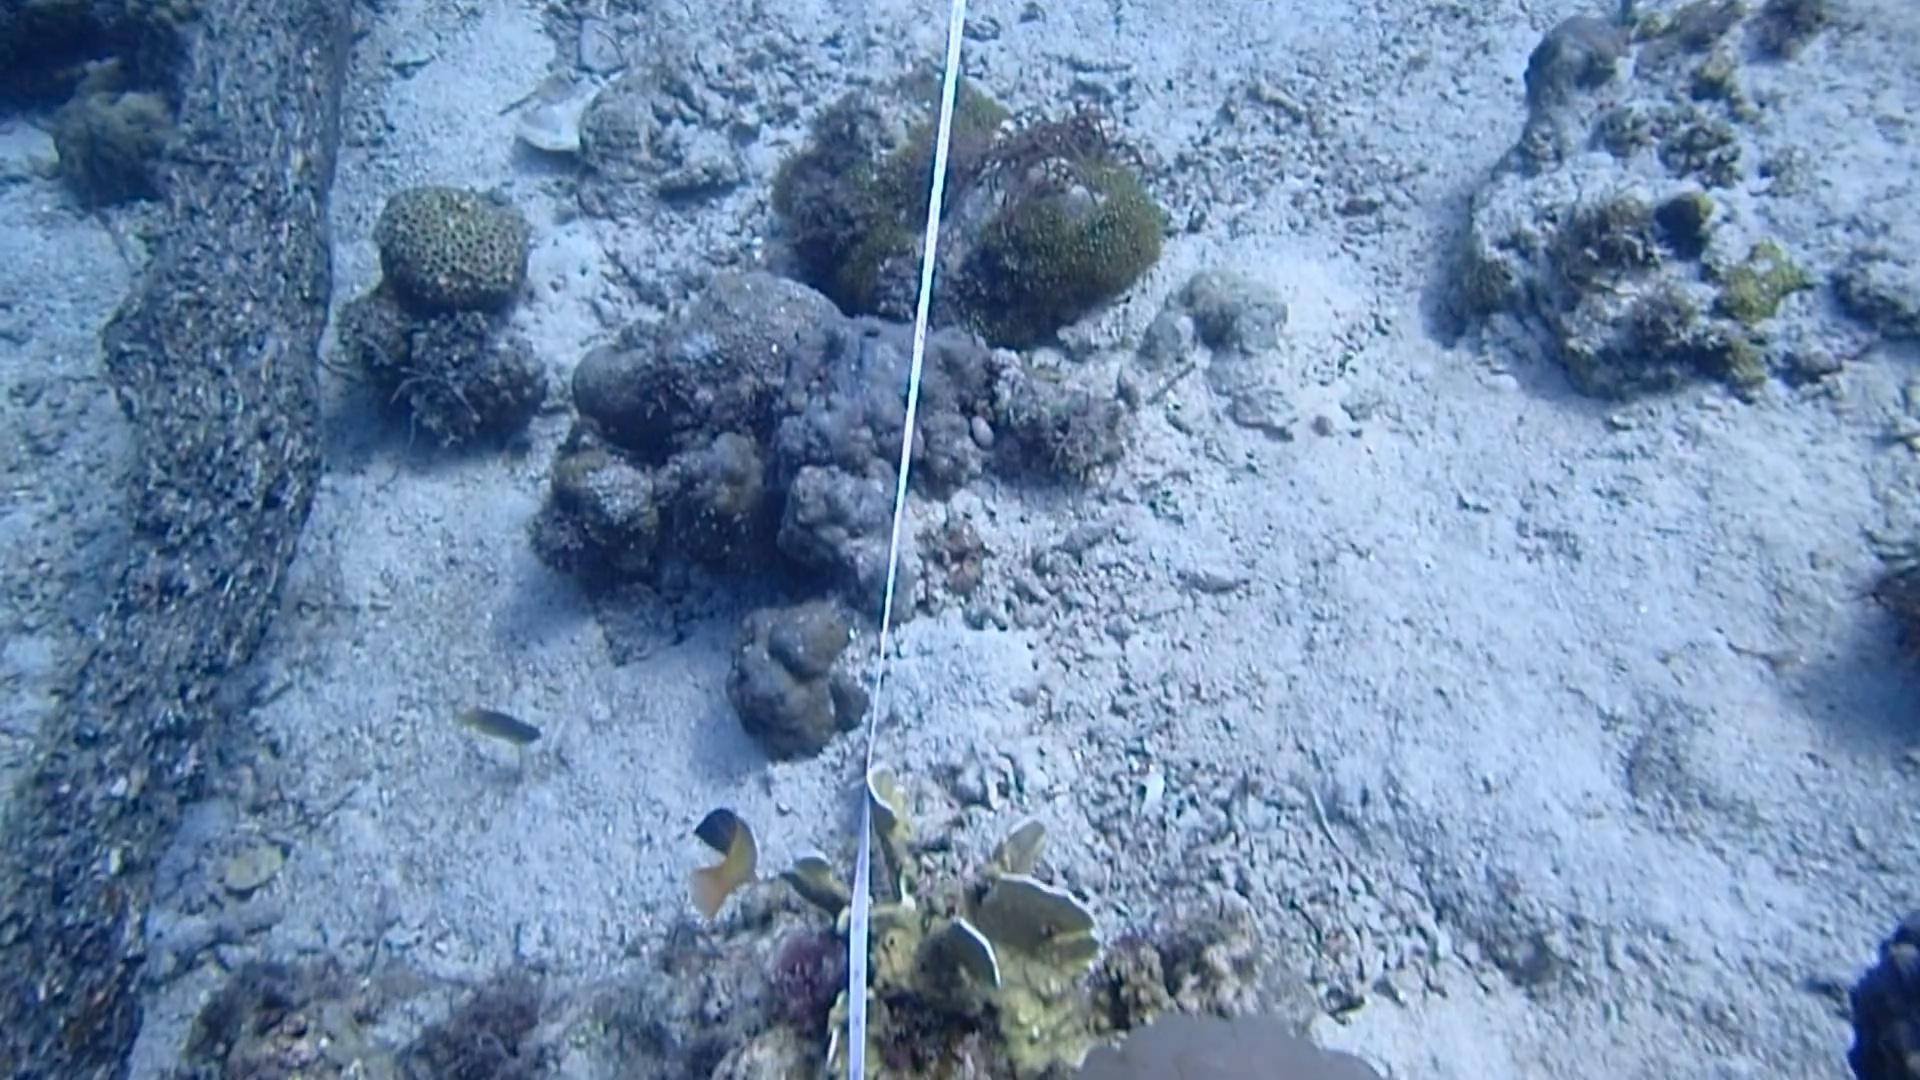Light Fish: (451, 694, 555, 767)
Yellow-Blue Fish: (666, 798, 782, 918)
